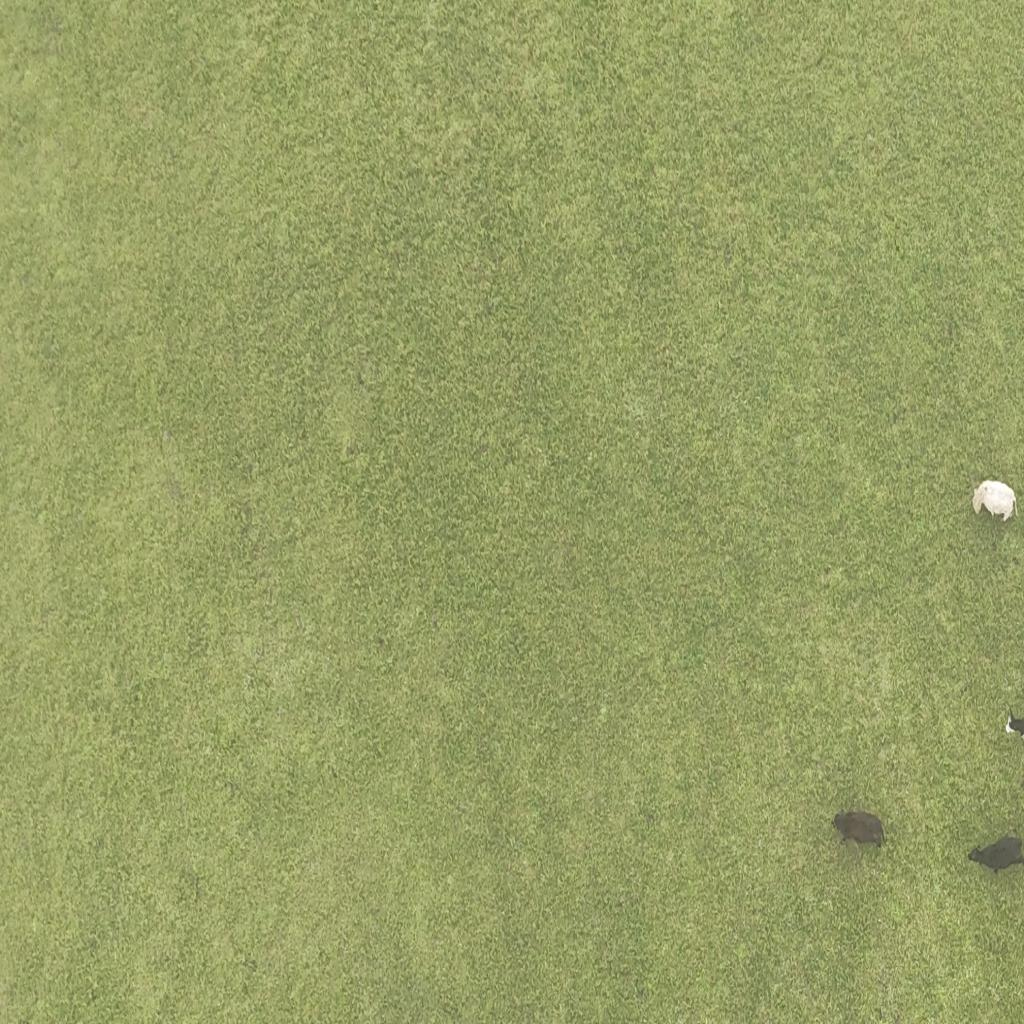cow: (961, 830, 1024, 877), (831, 808, 885, 854), (972, 472, 1019, 522), (1004, 704, 1024, 741)
